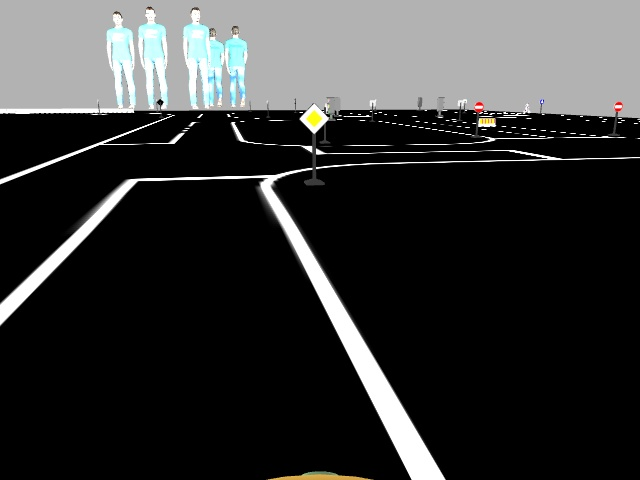ClosedRoadStand: (477, 115, 496, 127)
NoEntry: (612, 100, 623, 112), (471, 100, 483, 111)
Priority: (295, 102, 328, 133)
